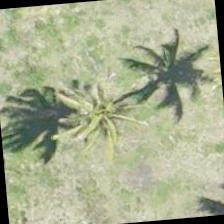Kelapa_Sawit: (39, 74, 137, 172)
